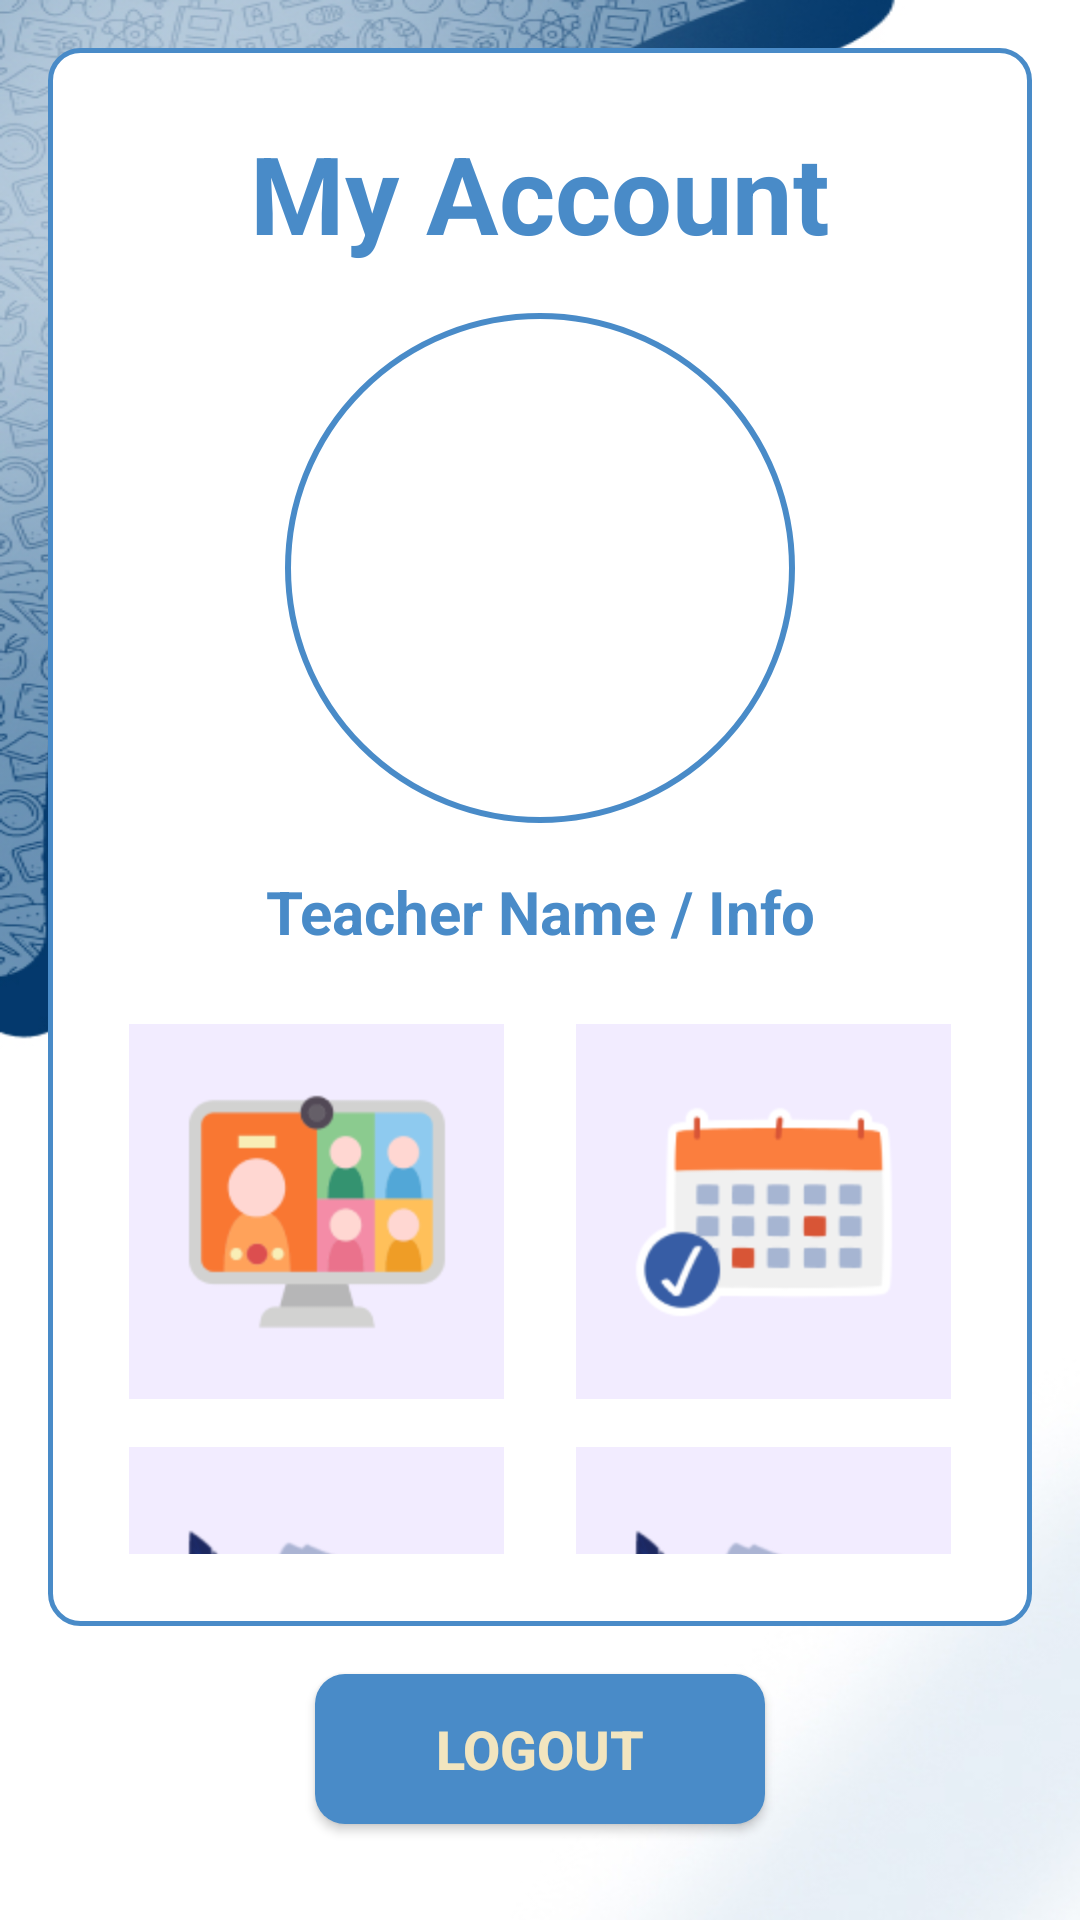

Point at icon controls on the screen. Image size 1080 x 1920, points as (x,y).
meetings: (317,1211)
